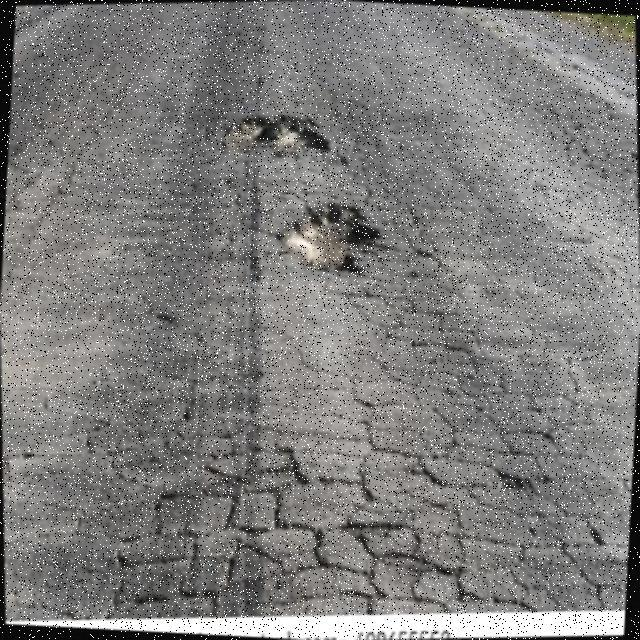Pothole: (282, 204, 379, 275), (223, 113, 332, 155)
